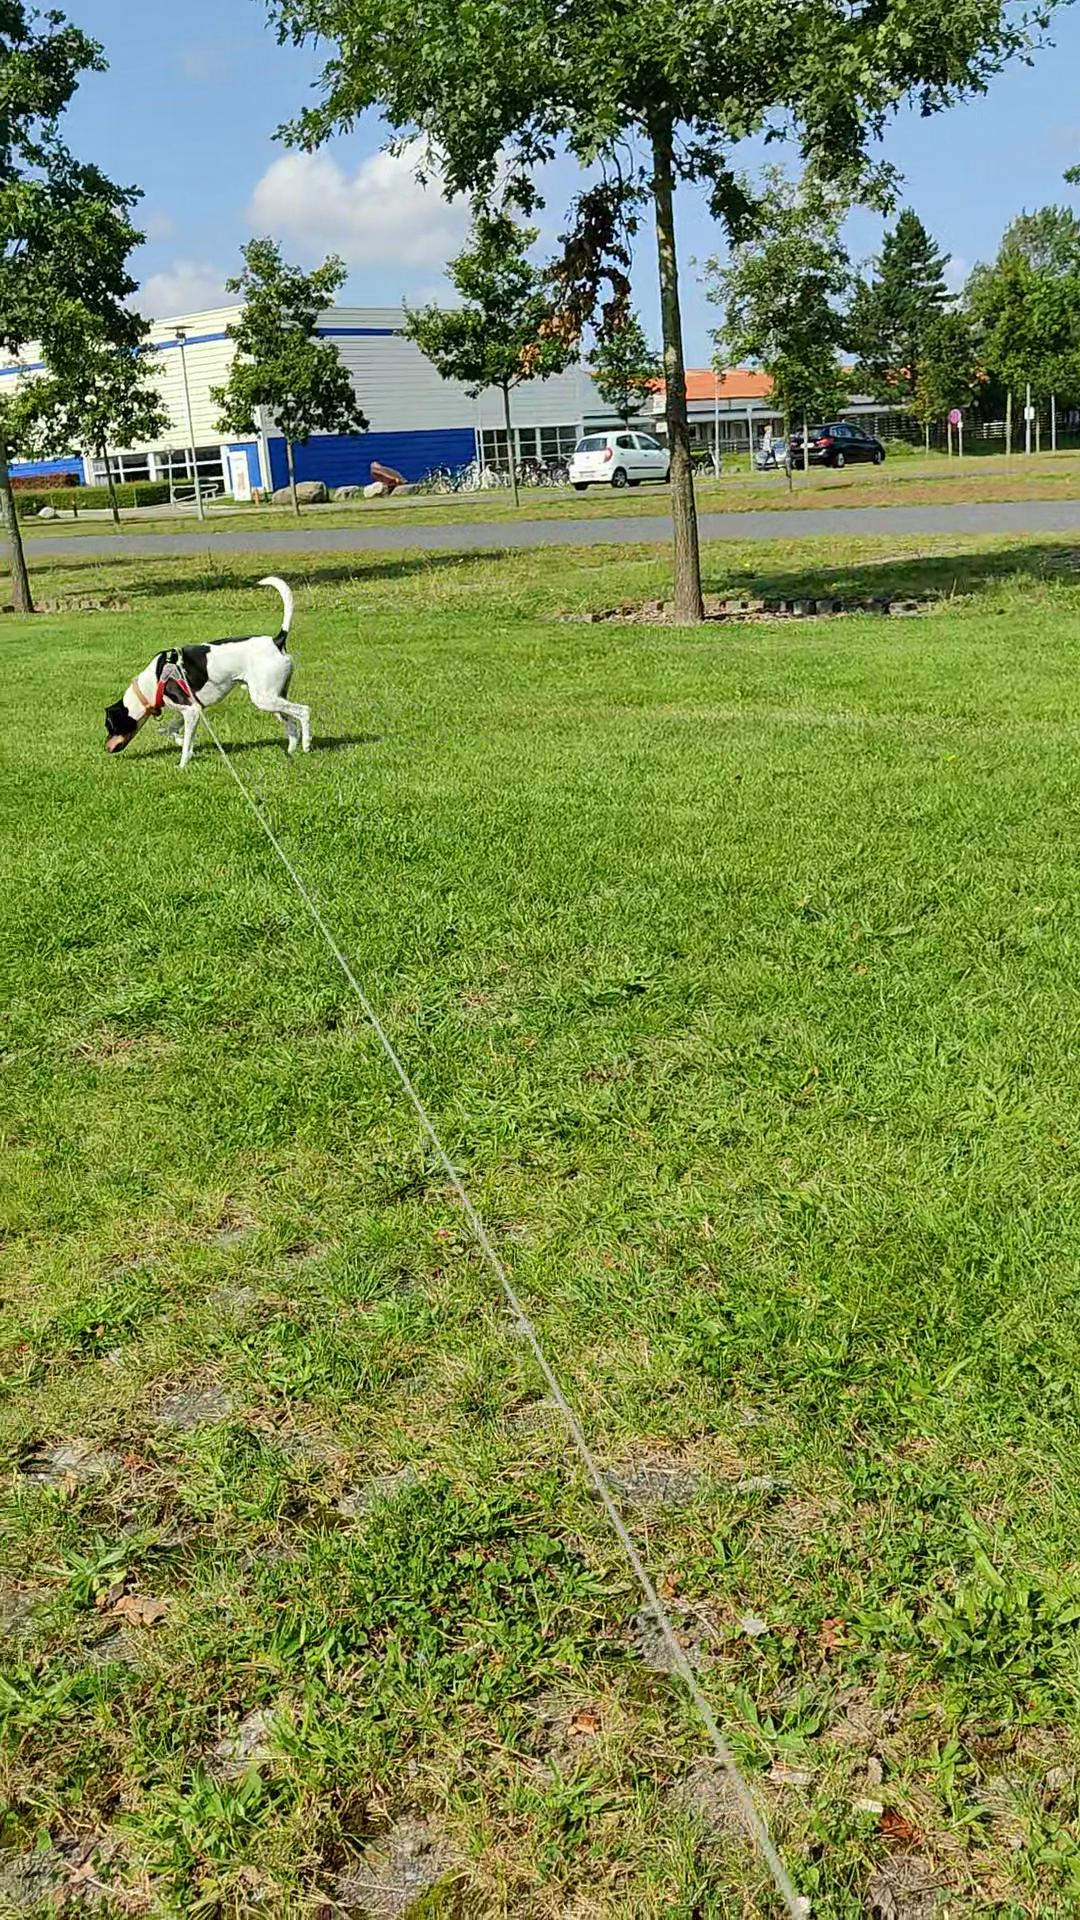Dog: (80, 563, 336, 790)
